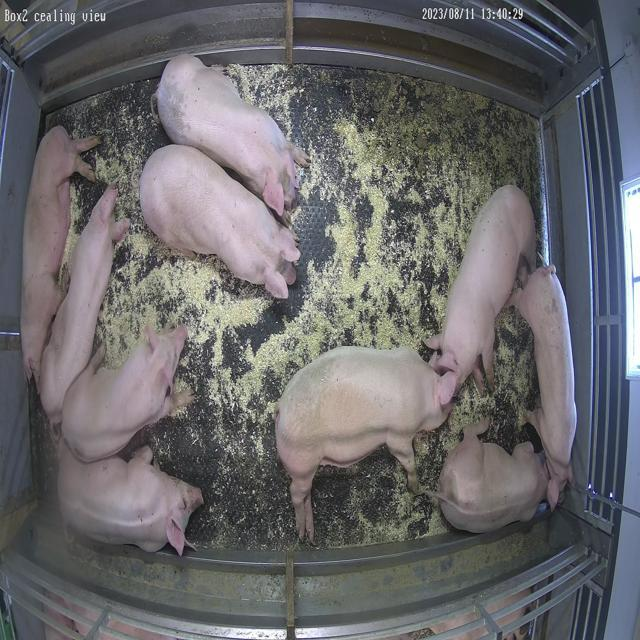Dirt: (351, 71, 541, 216)
Pig: (276, 348, 450, 544), (155, 54, 309, 216), (139, 144, 301, 298), (428, 186, 536, 390), (38, 185, 129, 424), (21, 126, 99, 378), (57, 440, 203, 556), (62, 327, 187, 462), (511, 266, 578, 510), (438, 420, 550, 534)
